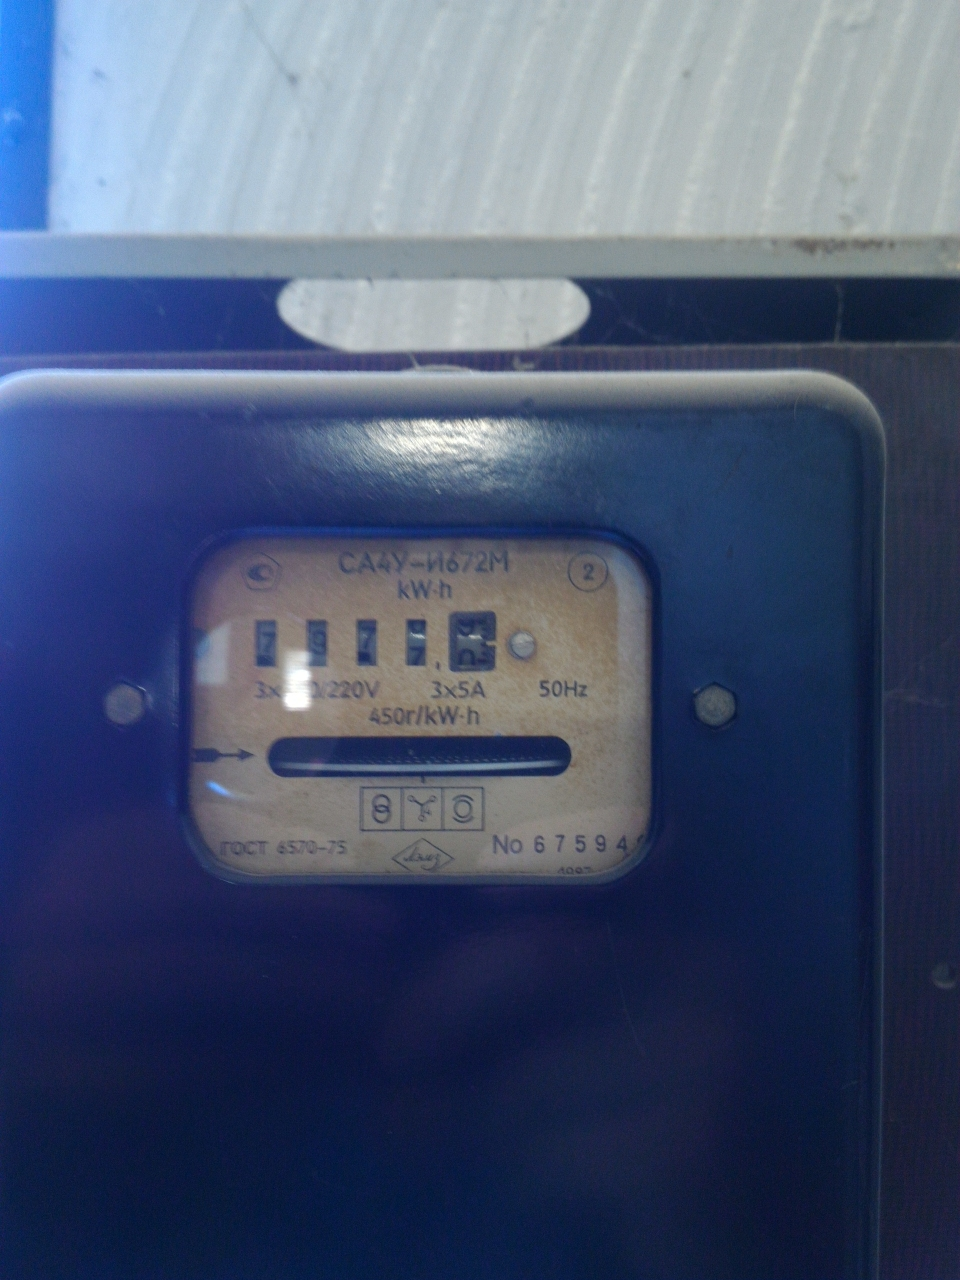0: (455, 645, 479, 670)
7: (260, 628, 278, 655), (407, 641, 426, 666), (360, 624, 376, 652)
9: (310, 628, 329, 658), (456, 616, 477, 638)
screen: (242, 604, 509, 683)
